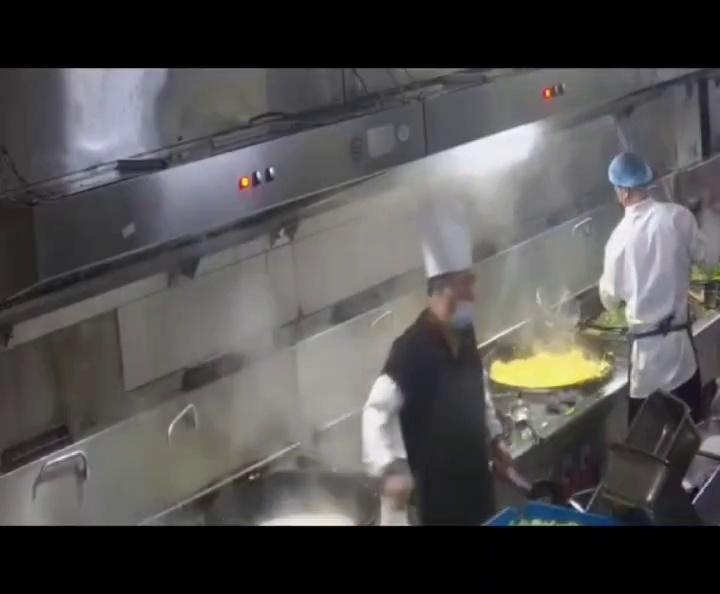mask: (450, 284, 481, 328)
